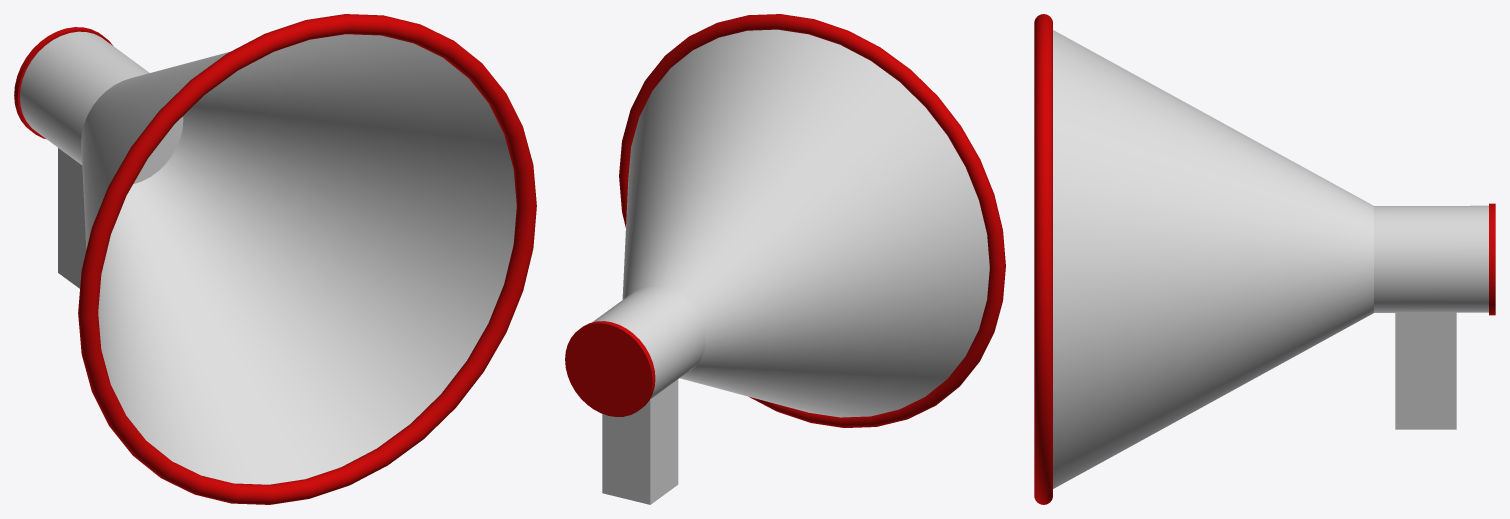
File: M_Speaker.fbx
The picture shows the model from 3 angles, left to right: view 1: azimuth 30°, elevation 25°; view 2: azimuth 150°, elevation 25°; view 3: azimuth 270°, elevation 25°; orthographic projection. The views are drawn at different scales.
Parts seen in each view (by area): view 1: Cone, Torus, Cylinder_1, Cube, Cylinder; view 2: Cone, Torus, Cube, Cylinder, Cylinder_1; view 3: Cone, Cylinder_1, Torus, Cube, Cylinder.
Boxes of the visible parts, x1,y1,x2,y2 form: Cone: (81,34,516,484); Torus: (78,14,536,504); Cylinder_1: (20,31,183,184); Cube: (58,148,86,288); Cylinder: (14,27,112,138); Cone: (622,29,989,417); Torus: (619,14,1005,427); Cube: (602,379,678,504); Cylinder: (565,321,655,416); Cylinder_1: (592,285,705,399); Cone: (1053,30,1373,488); Cylinder_1: (1374,205,1488,312); Torus: (1034,14,1052,504); Cube: (1395,312,1456,429); Cylinder: (1489,203,1495,315).
Size of the model in its own units: 5025 by 5025 by 4703.
